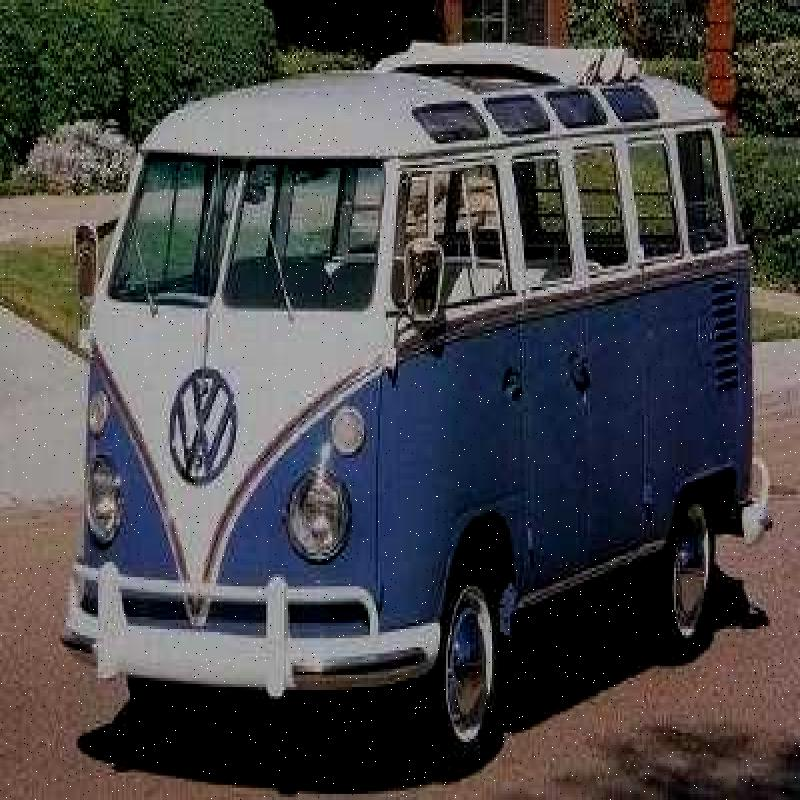bus: (94, 40, 741, 734)
